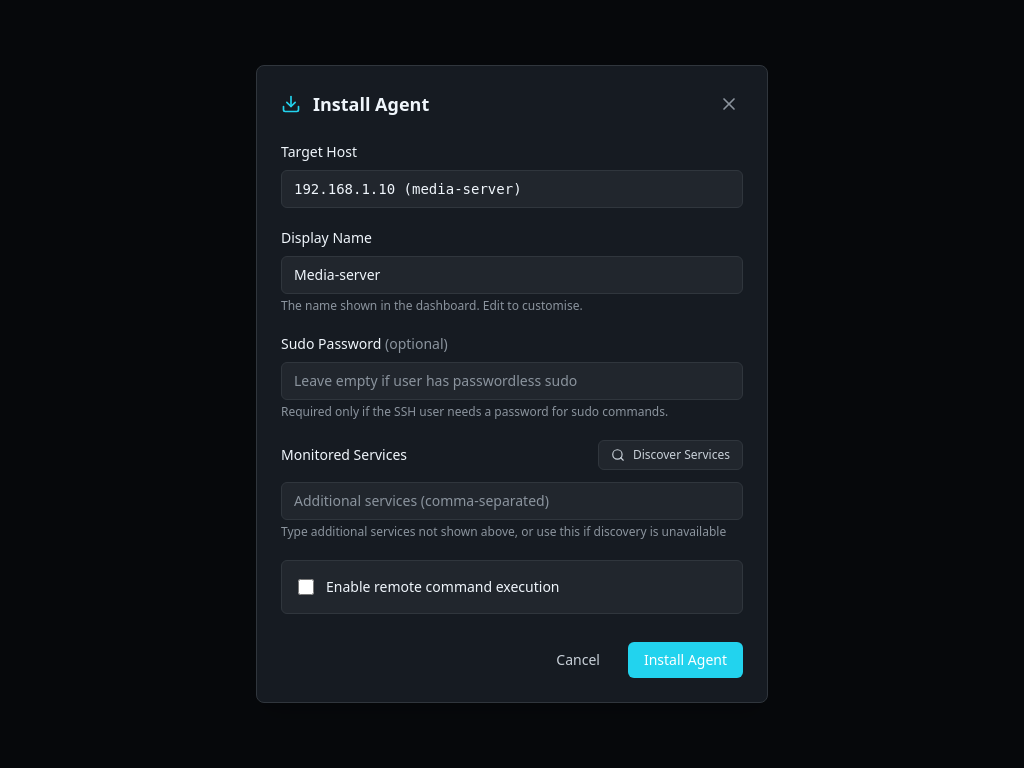
Test: AgentInstallModal › shows error on install failure
This screenshot has width=1024, height=768.
What coordinates should you click on to do the following:
click the button with test id "install-button"
I would click on:
 (686, 660)
Its box is [628,642,743,678].
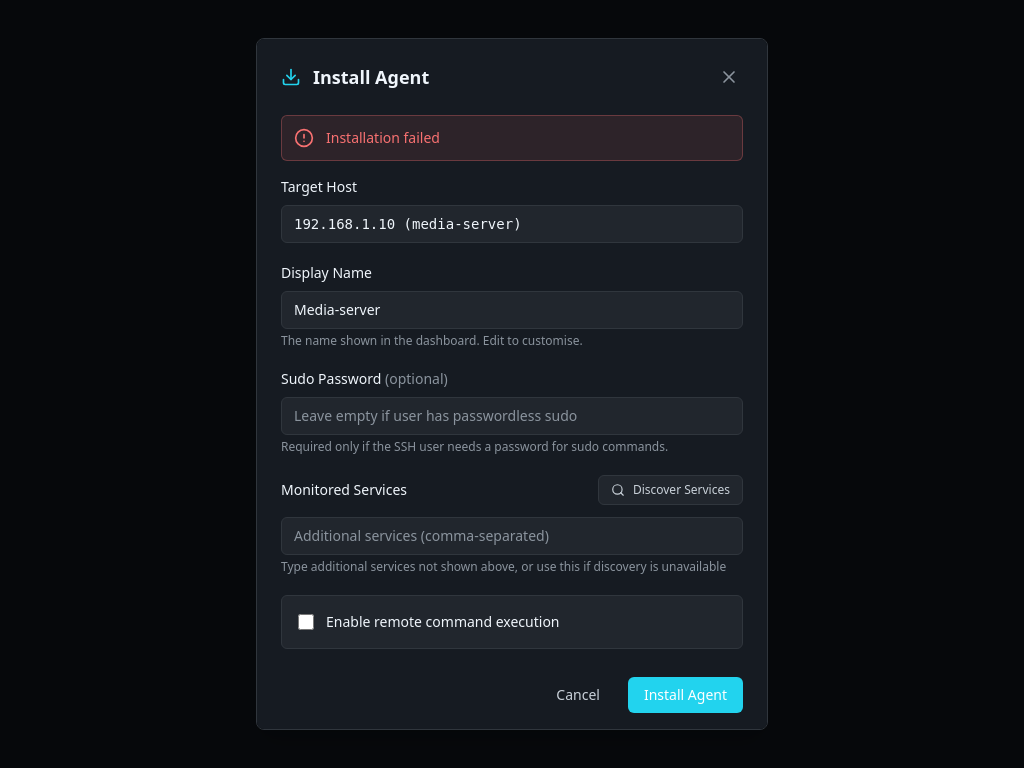
Expected: the text "Installation failed" is shown, [326,128,440,148]
